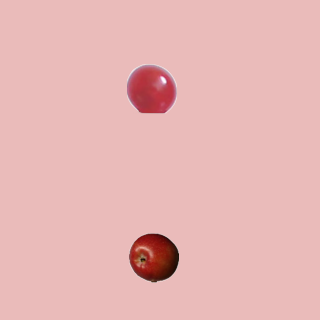Apple Braeburn: (128, 232, 178, 282)
Redcurrant: (126, 63, 176, 113)
